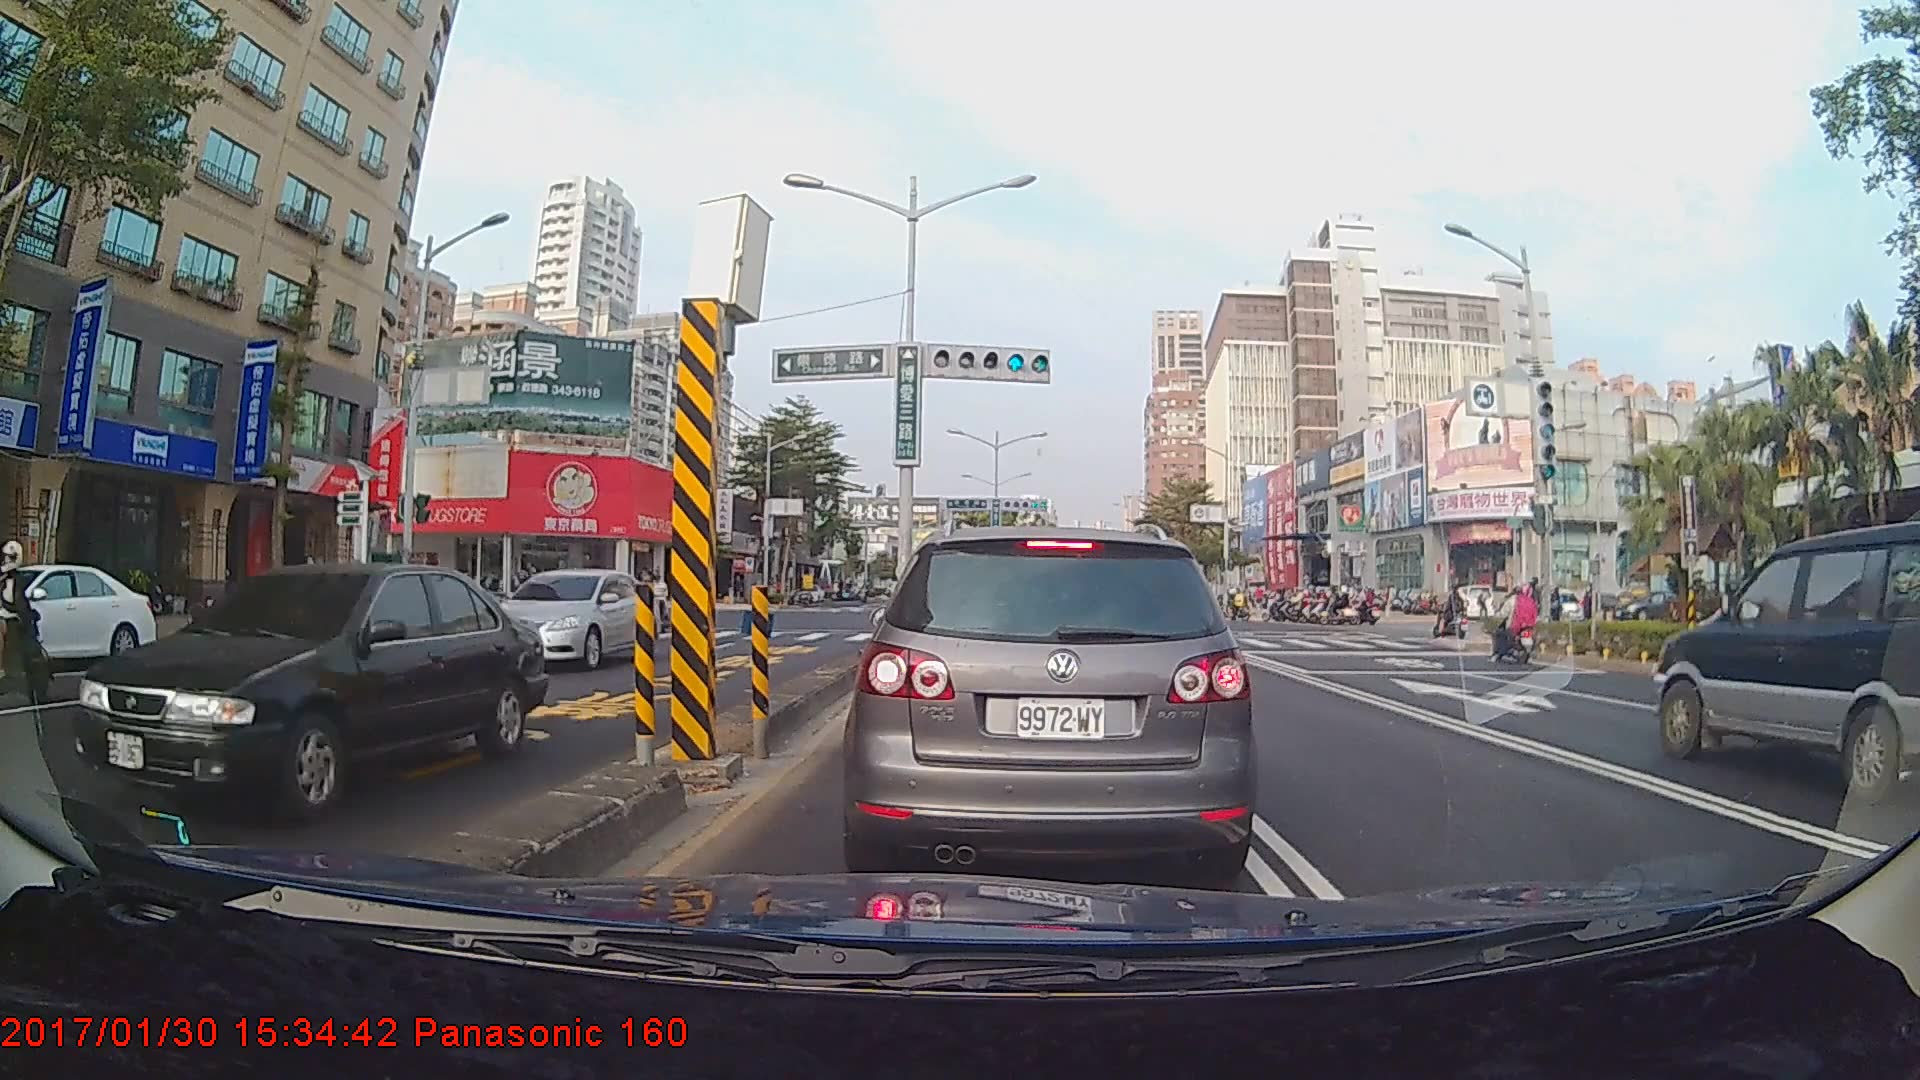rider: (1, 536, 60, 714), (1485, 582, 1548, 668), (1436, 582, 1473, 646)
vehicle: (852, 521, 1247, 883), (69, 560, 549, 821), (1651, 519, 1920, 804), (484, 567, 663, 671), (0, 561, 157, 671)
